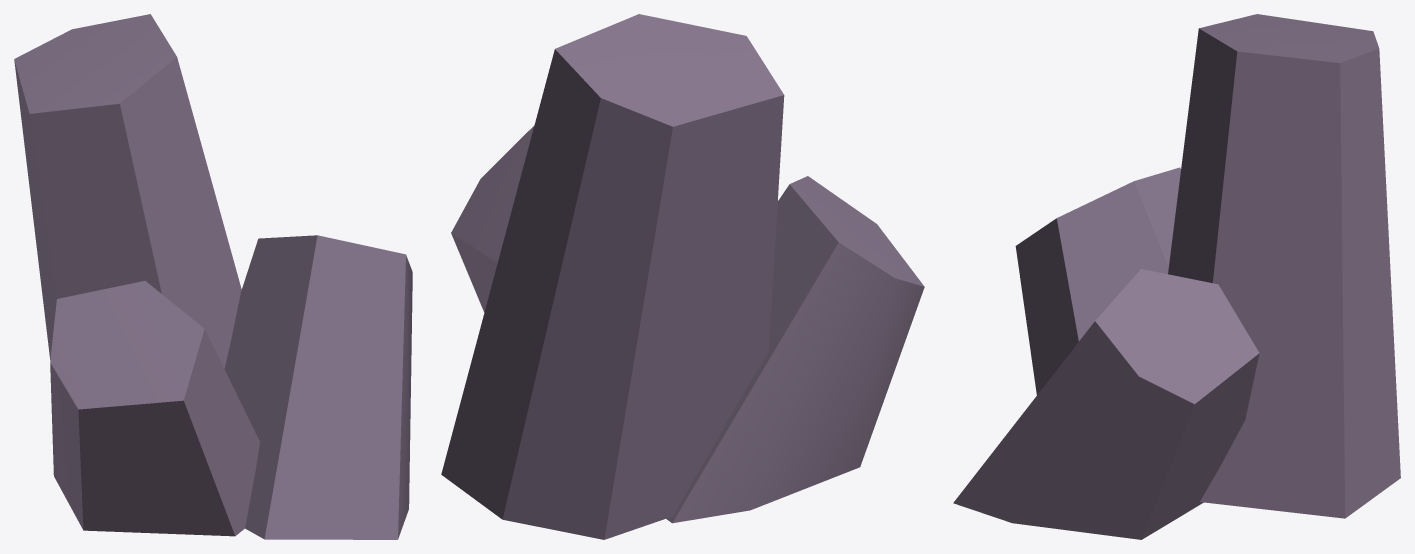
The model's file is Crystal_Small.glb.
3 renders of one model, left to right at view 1: azimuth 30°, elevation 25°; view 2: azimuth 150°, elevation 25°; view 3: azimuth 270°, elevation 25°, orthographic. The views are drawn at different scales.
Visible parts, largest first — view 1: Crystal_Small; view 2: Crystal_Small; view 3: Crystal_Small.
Part boxes in pixels (box(x1,y1,x2,y2)): Crystal_Small: box(14, 14, 412, 539); Crystal_Small: box(441, 14, 924, 539); Crystal_Small: box(953, 14, 1400, 539).
Bounding box in the file's own units: 0.7789 × 0.8213 × 0.811.
1 material, 1 textured.
